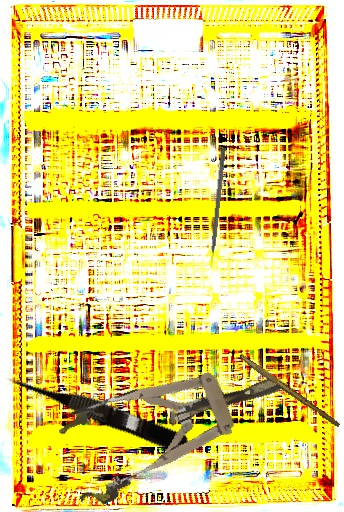Hook Surgical: (207, 147, 226, 269)
Micro Scissor: (2, 363, 193, 456)
Scalpel Handle: (237, 353, 342, 429)
Speculum: (49, 338, 298, 512)
